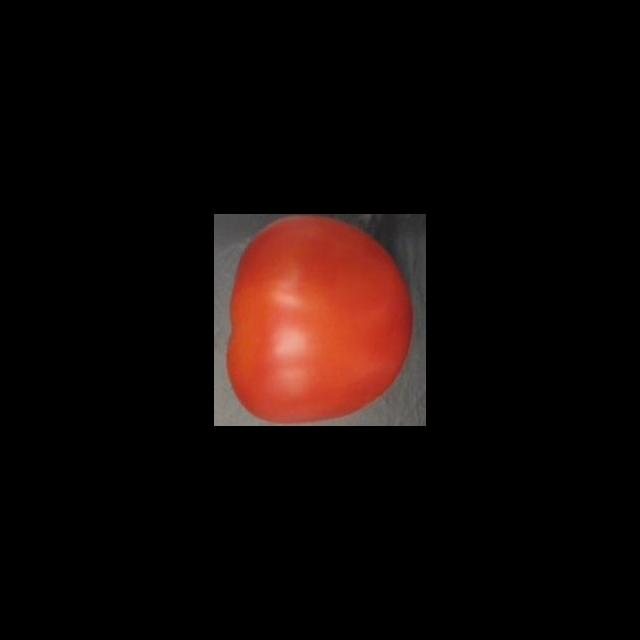tomato: (223, 214, 418, 426)
